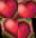heart: (18, 18, 36, 38), (0, 0, 18, 18), (18, 0, 36, 18)
